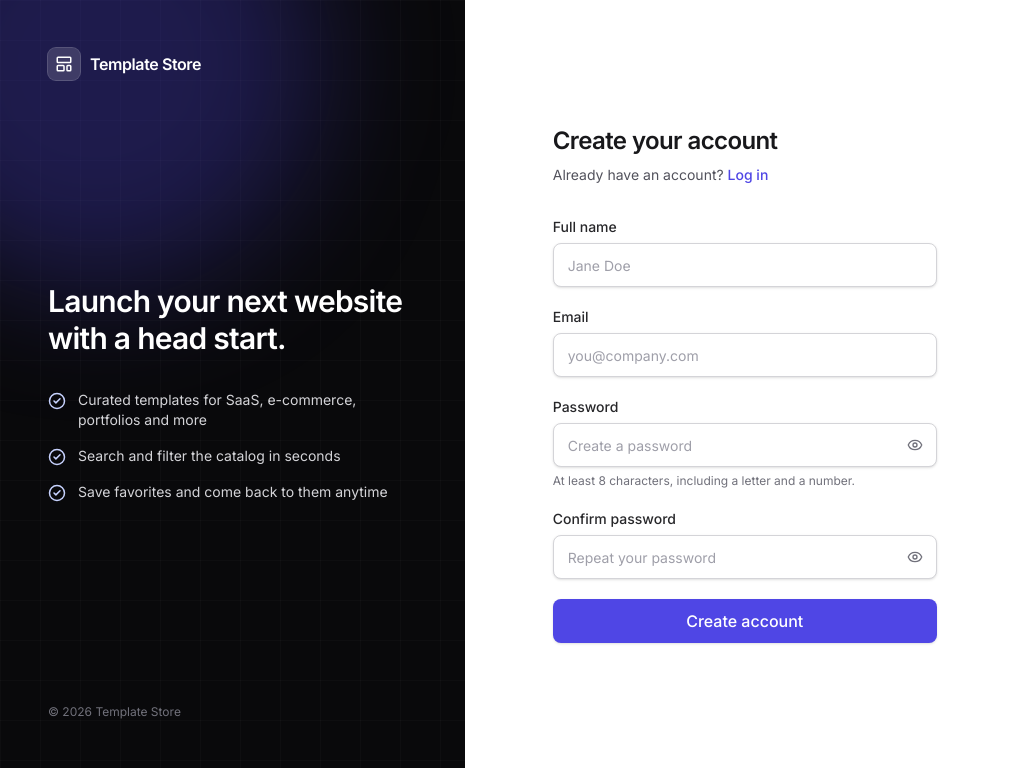
it: Register page › maps server validation details onto fields
Type "Ada Lovelace" into the field labelled "Full name" at (745, 265), box [553,243,937,287]
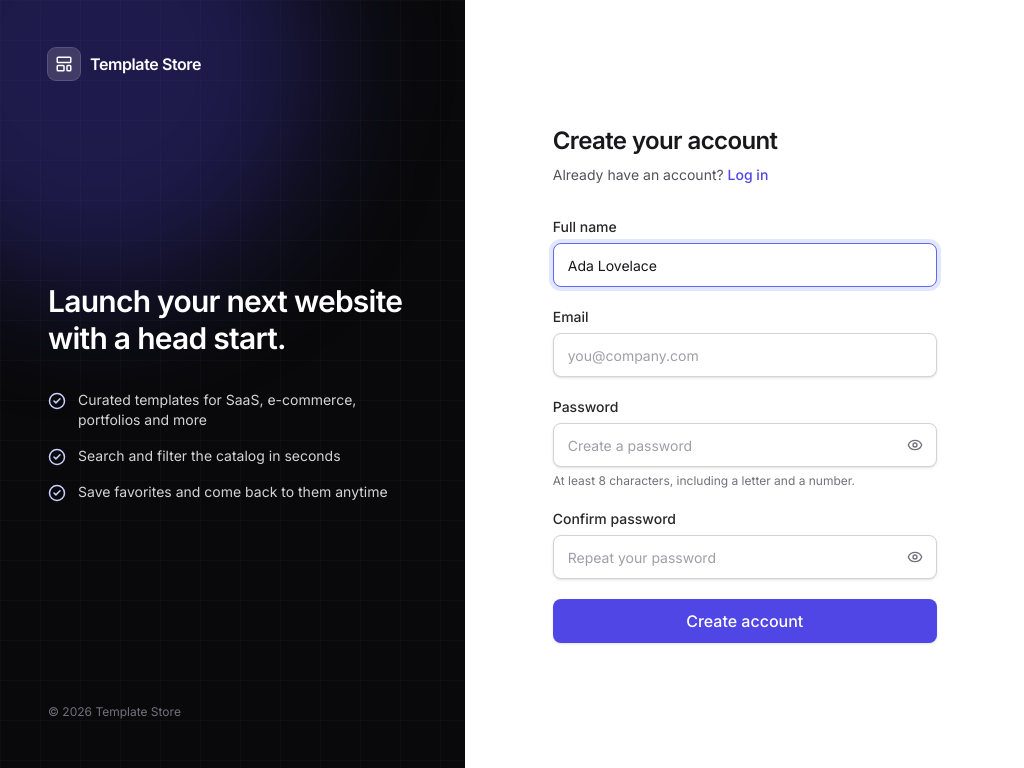
Type "ada@example.com" into the field labelled "Email" at (745, 355), box [553,333,937,377]
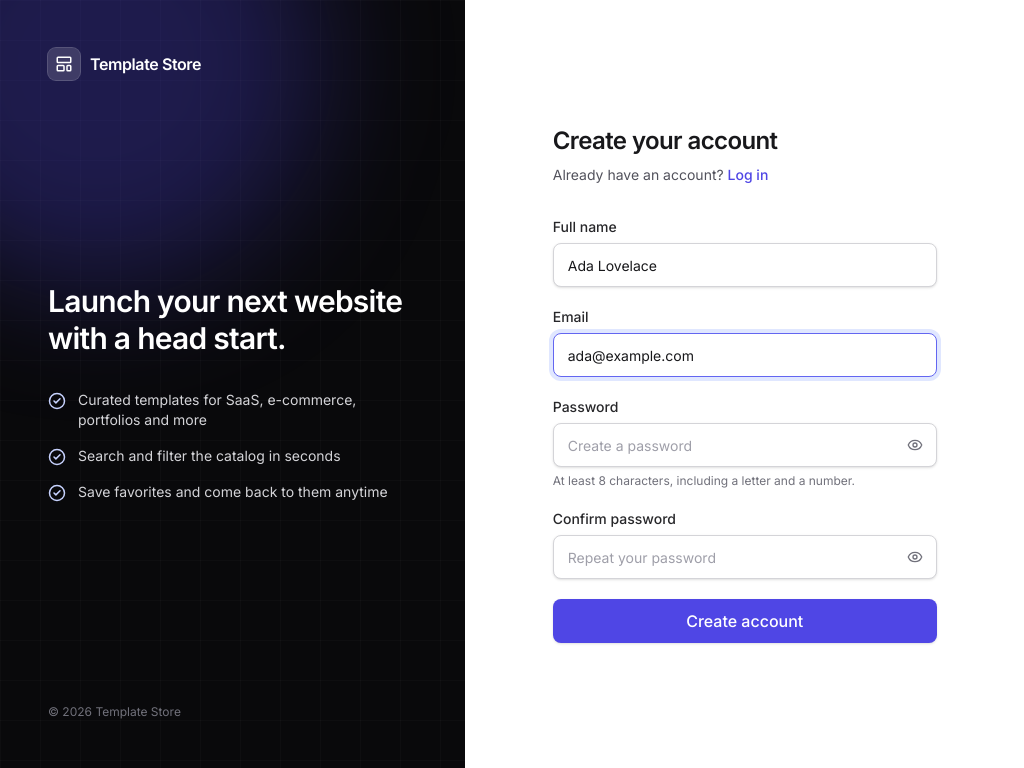
Type "Password1" into the password field labelled "Password" at (745, 445), box [553,423,937,467]
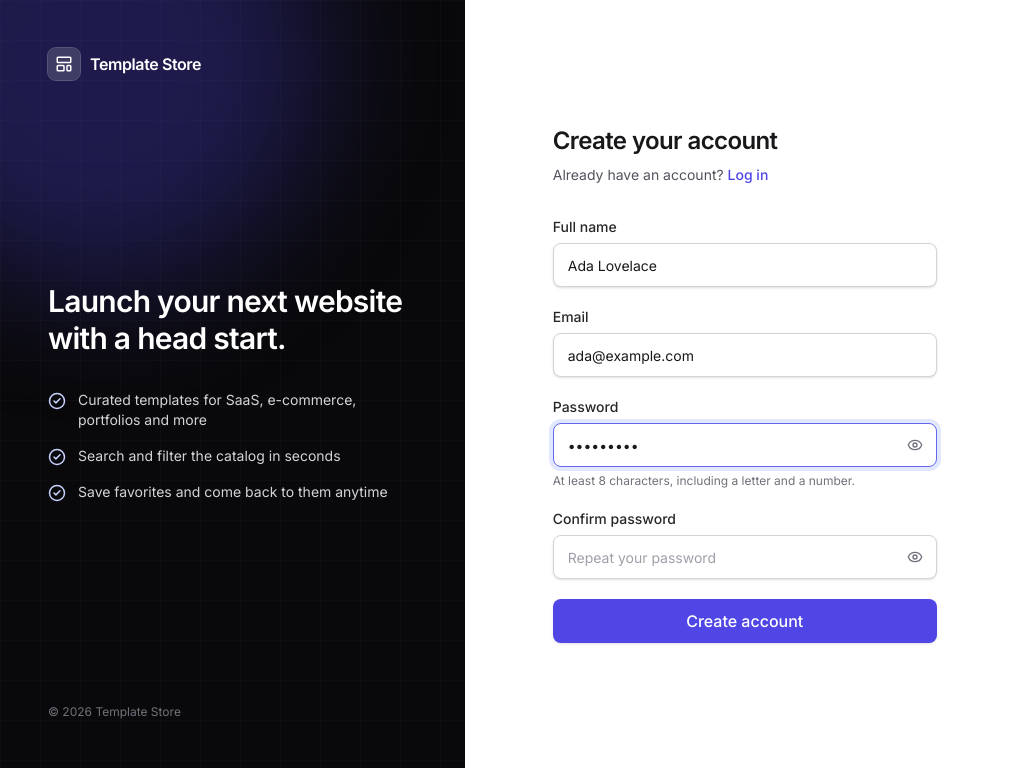
Type "Password1" into the password field labelled "Confirm password" at (745, 557), box [553,535,937,579]
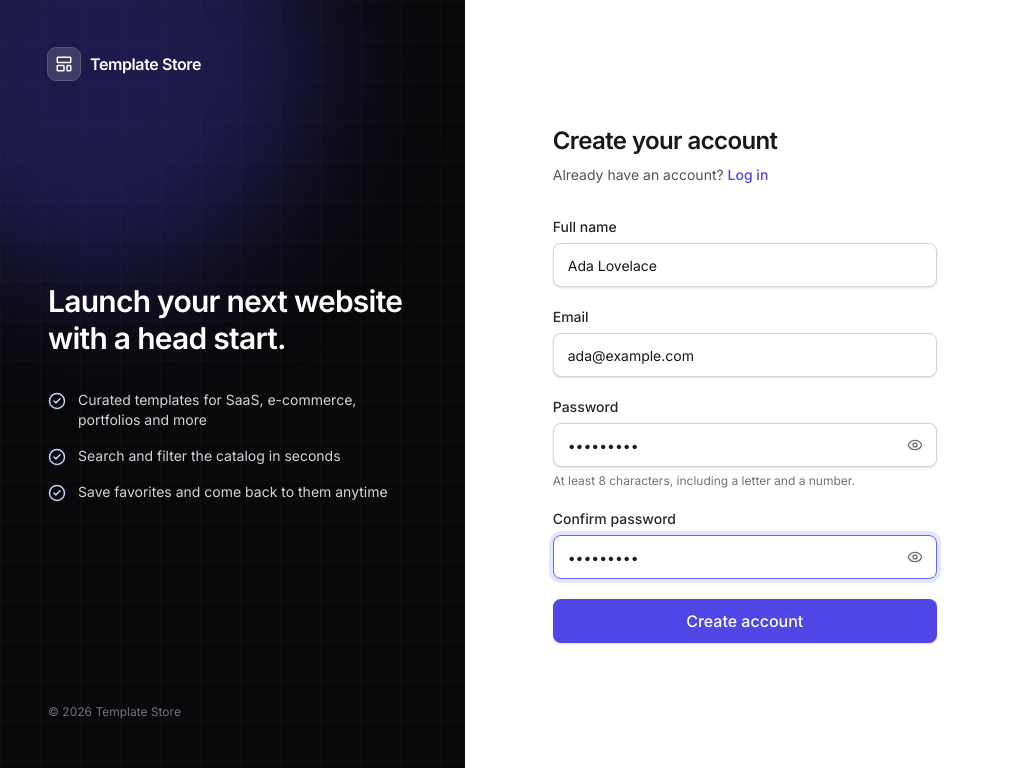
Click the button "Create account" at (745, 621), box [553,599,937,643]
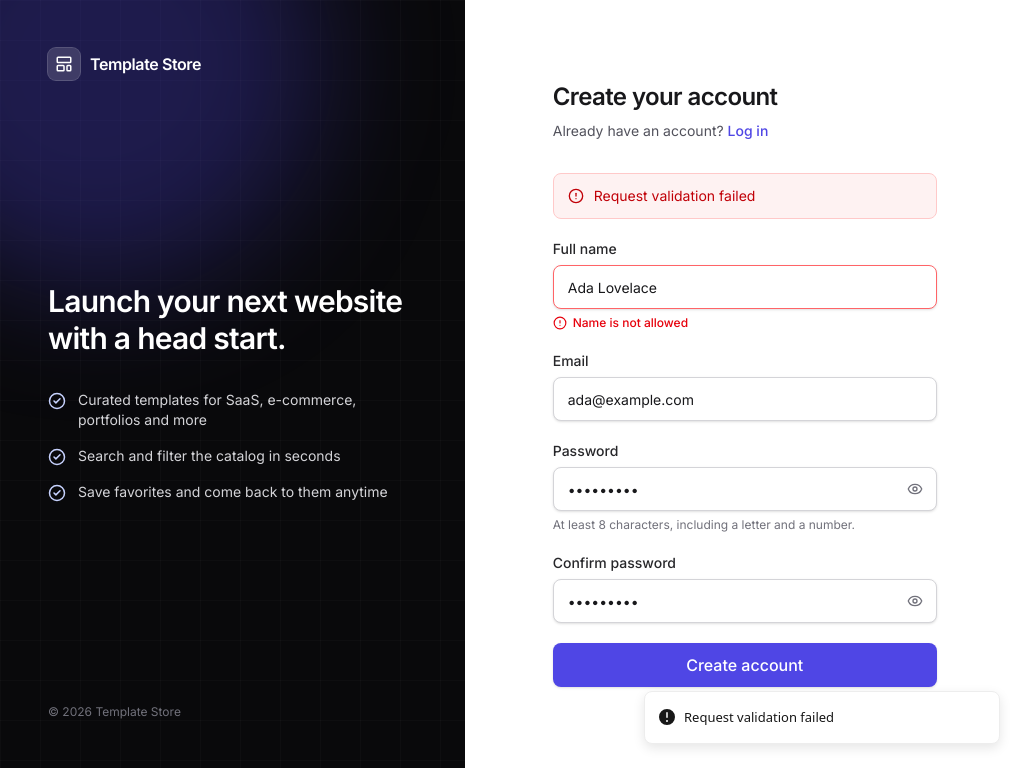
Now the text "Name is not allowed" is shown, box [553,315,688,330]
